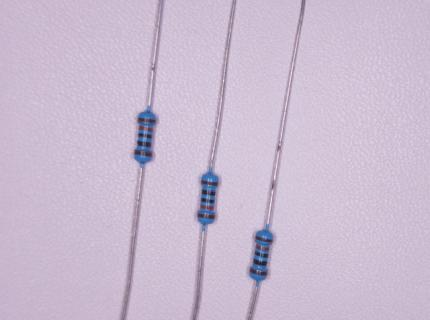Black band: (253, 258, 267, 266), (137, 141, 151, 148), (202, 189, 216, 196), (255, 251, 269, 258), (138, 133, 153, 138), (201, 198, 215, 203)
Brown band: (249, 267, 268, 276), (134, 150, 152, 158), (138, 117, 157, 124), (255, 235, 273, 242), (201, 179, 219, 186), (198, 213, 215, 219)
Orange band: (139, 125, 154, 132), (256, 244, 270, 251), (200, 205, 214, 210)
